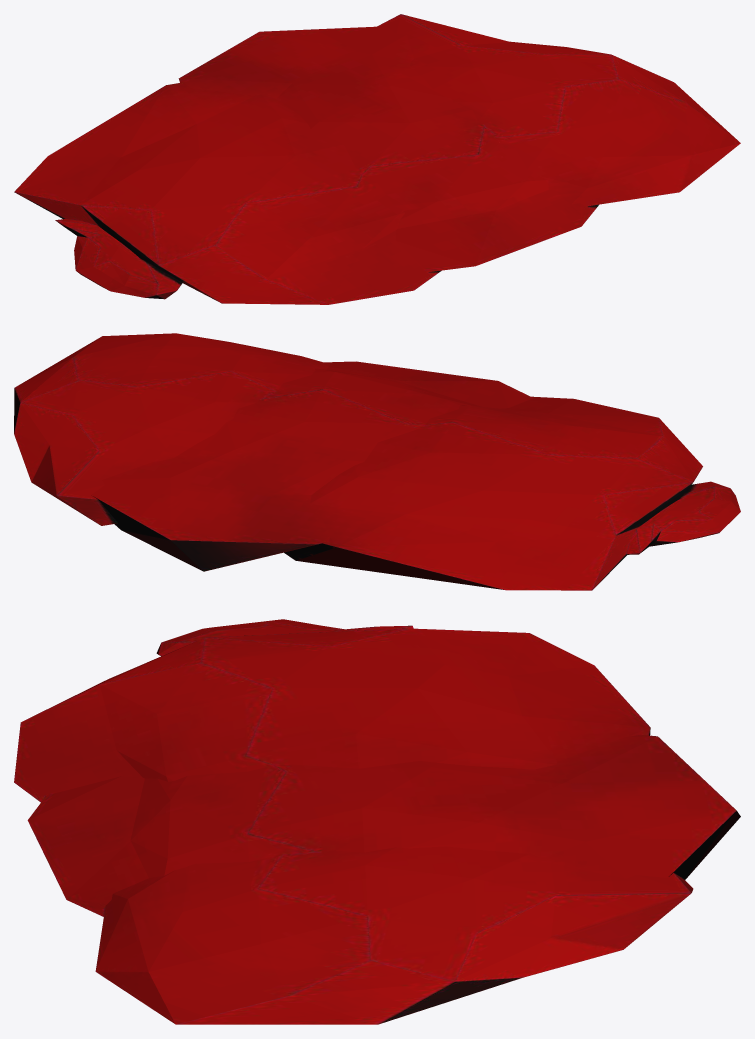
Rendered from blood2.obj.
3 renders of one model, top to bottom at view 1: azimuth 30°, elevation 25°; view 2: azimuth 150°, elevation 25°; view 3: azimuth 270°, elevation 25°, orthographic. The views are drawn at different scales.
Parts seen in each view (by area): view 1: Icosphere.003; view 2: Icosphere.003; view 3: Icosphere.003.
Boxes of the visible parts, bbox=[...] form: Icosphere.003: bbox=[14, 14, 740, 304]; Icosphere.003: bbox=[14, 333, 740, 590]; Icosphere.003: bbox=[14, 619, 740, 1024].
Bounding box in the file's own units: 0.4998 × 0.0323 × 0.3688.
1 material, 1 textured.
